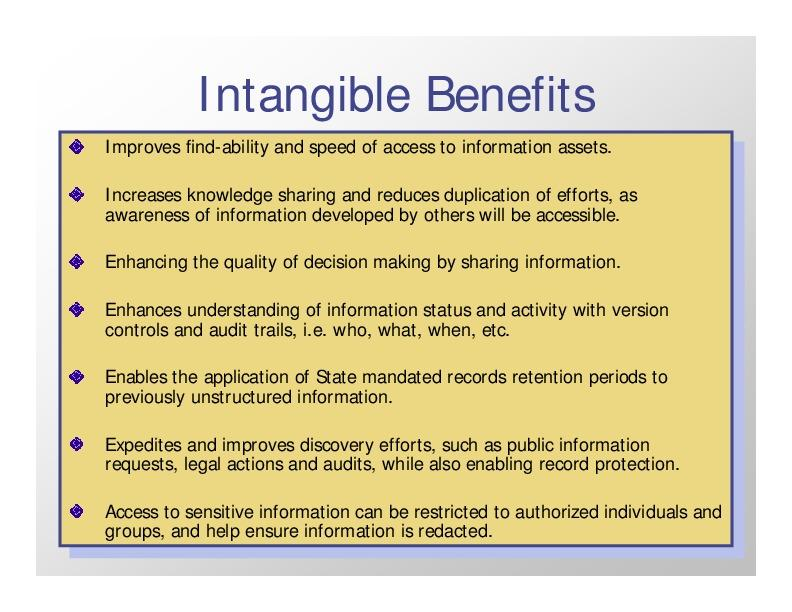paragraph: (50, 123, 742, 558)
title: (187, 70, 608, 122)
